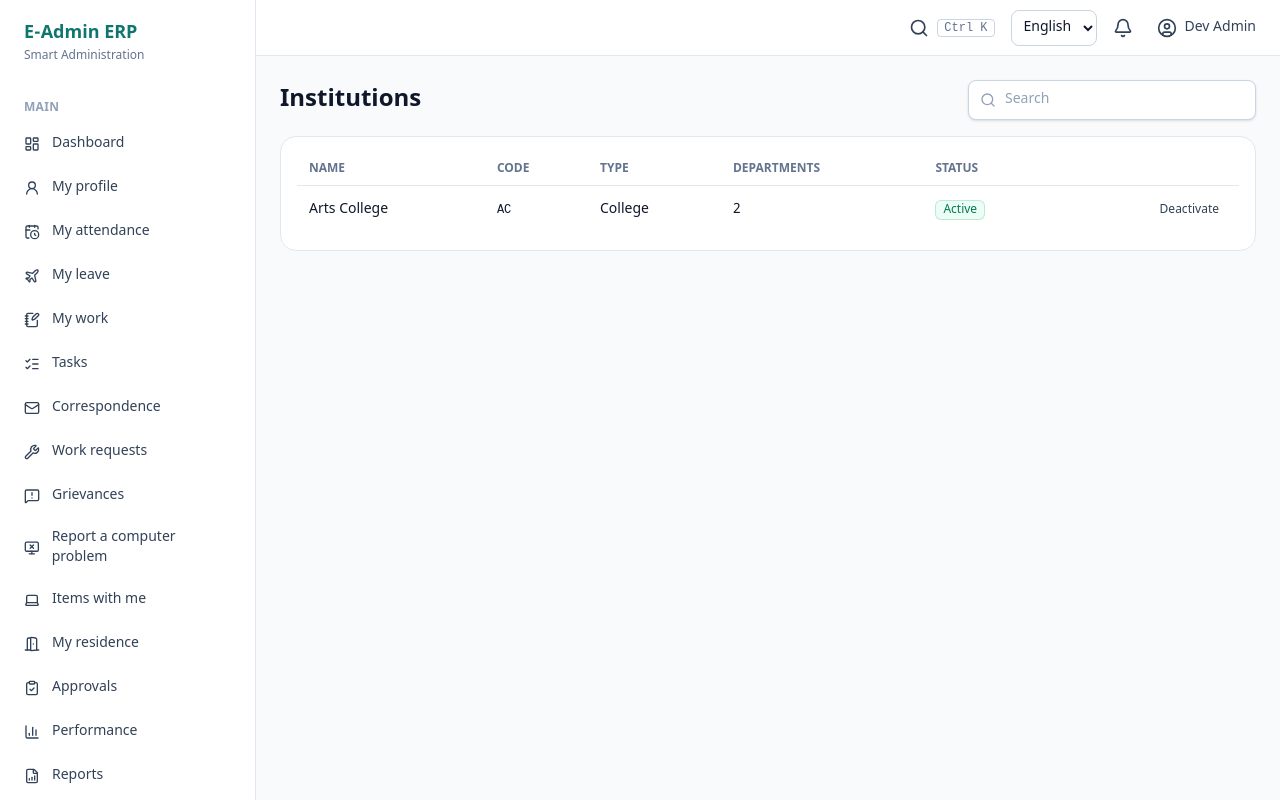
institution management › keeps the dialog open and shows the server message when deactivation is refused
The width and height of the screenshot is (1280, 800).
Click the button "Deactivate" at (1189, 210), box [1152, 194, 1227, 226]
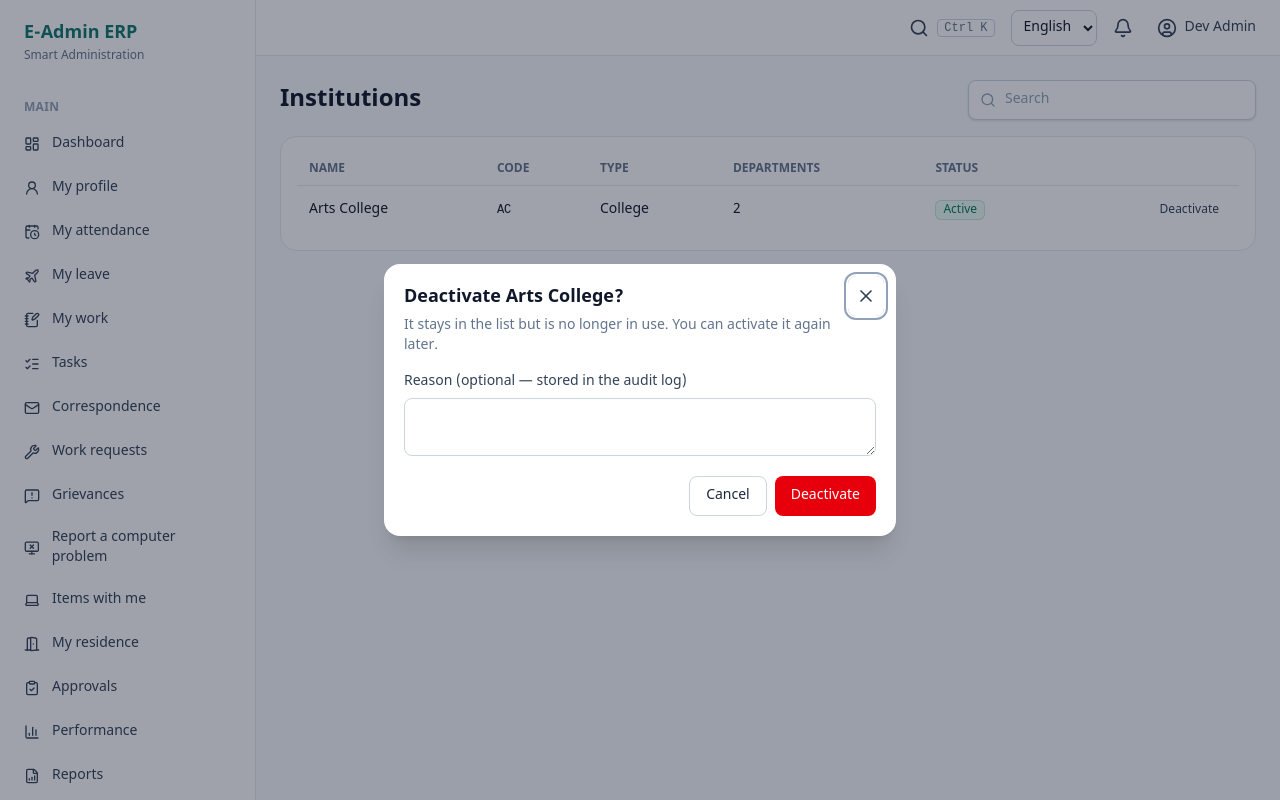
Click the button "Deactivate" at (825, 496), box [775, 476, 876, 516]
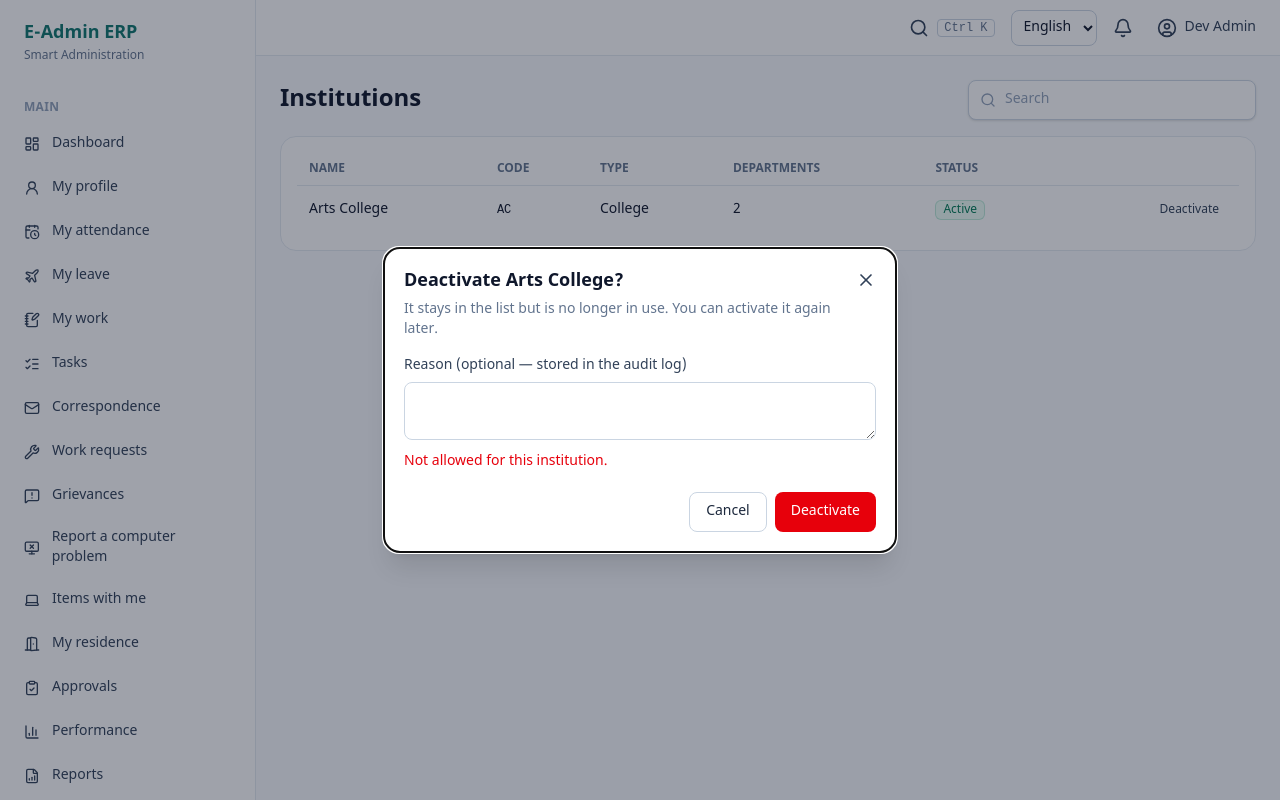
Check: the message reads "Not allowed for this institution.", box [404, 452, 608, 471]
